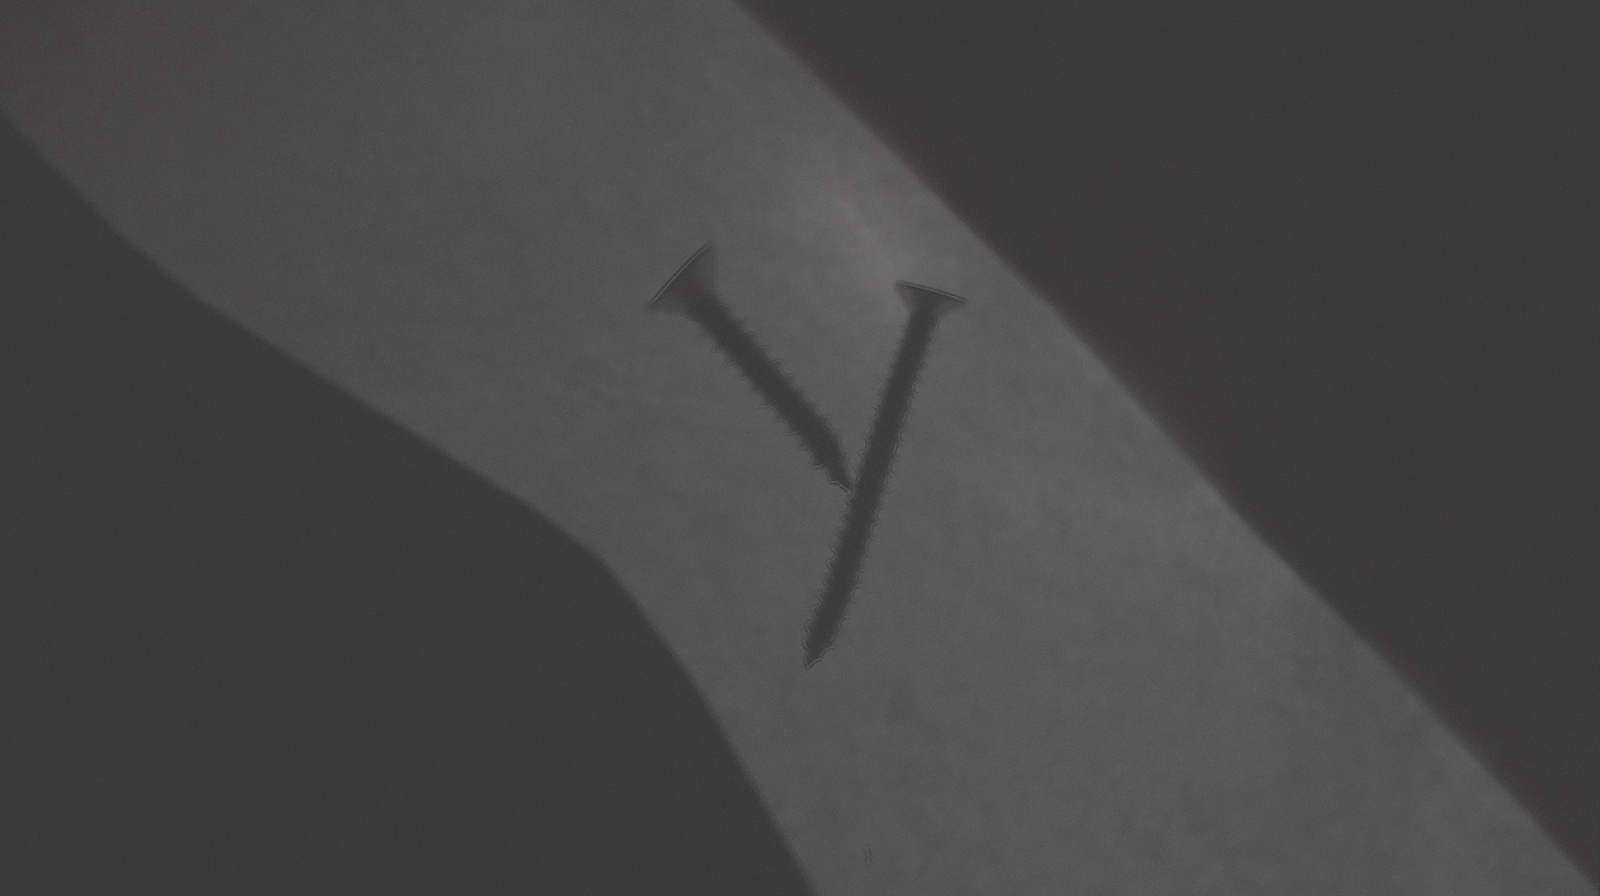S001: (629, 225, 860, 500)
S002: (789, 275, 973, 692)
